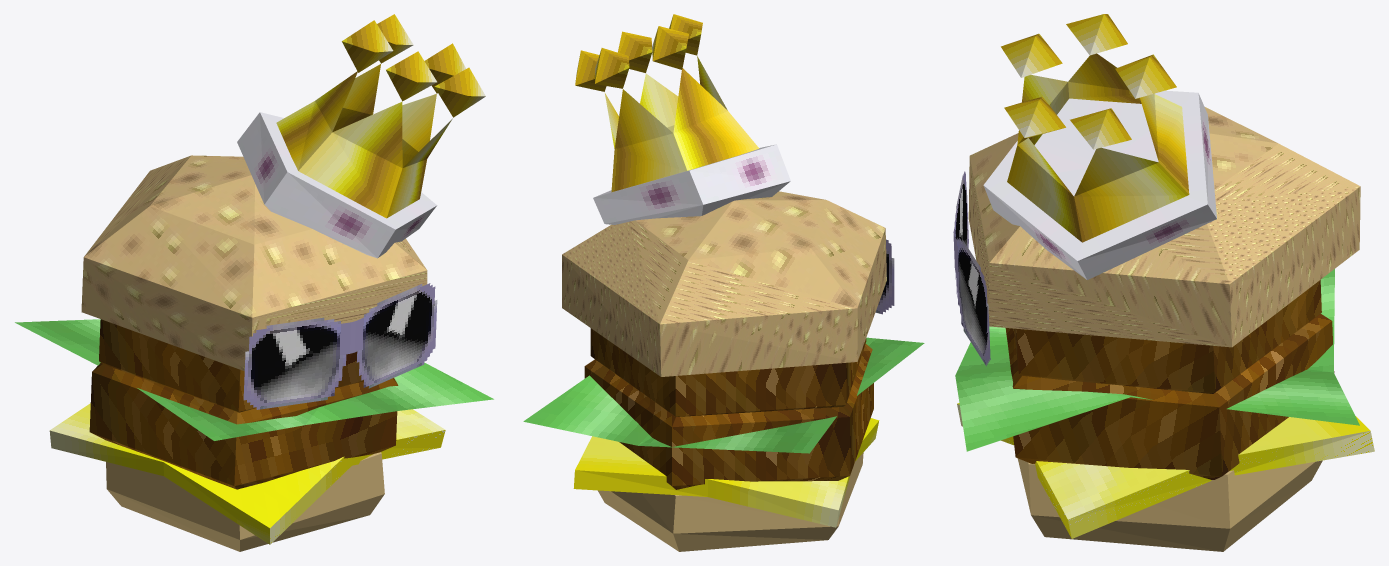
The model's file is Double King Triple Deluxe Ultimate Burger.obj.
3 renders of one model, left to right at view 1: azimuth 30°, elevation 25°; view 2: azimuth 150°, elevation 25°; view 3: azimuth 270°, elevation 25°, orthographic. The views are drawn at different scales.
Parts seen in each view (by area): view 1: ShapeIndexedFaceS.005; view 2: ShapeIndexedFaceS.005; view 3: ShapeIndexedFaceS.005.
Part boxes in pixels (left/top/right/bottom): ShapeIndexedFaceS.005: left=15, top=14, right=493, bottom=551; ShapeIndexedFaceS.005: left=523, top=14, right=924, bottom=551; ShapeIndexedFaceS.005: left=953, top=14, right=1374, bottom=551.
Bounding box in the file's own units: 4.07 × 5.21 × 3.69.
